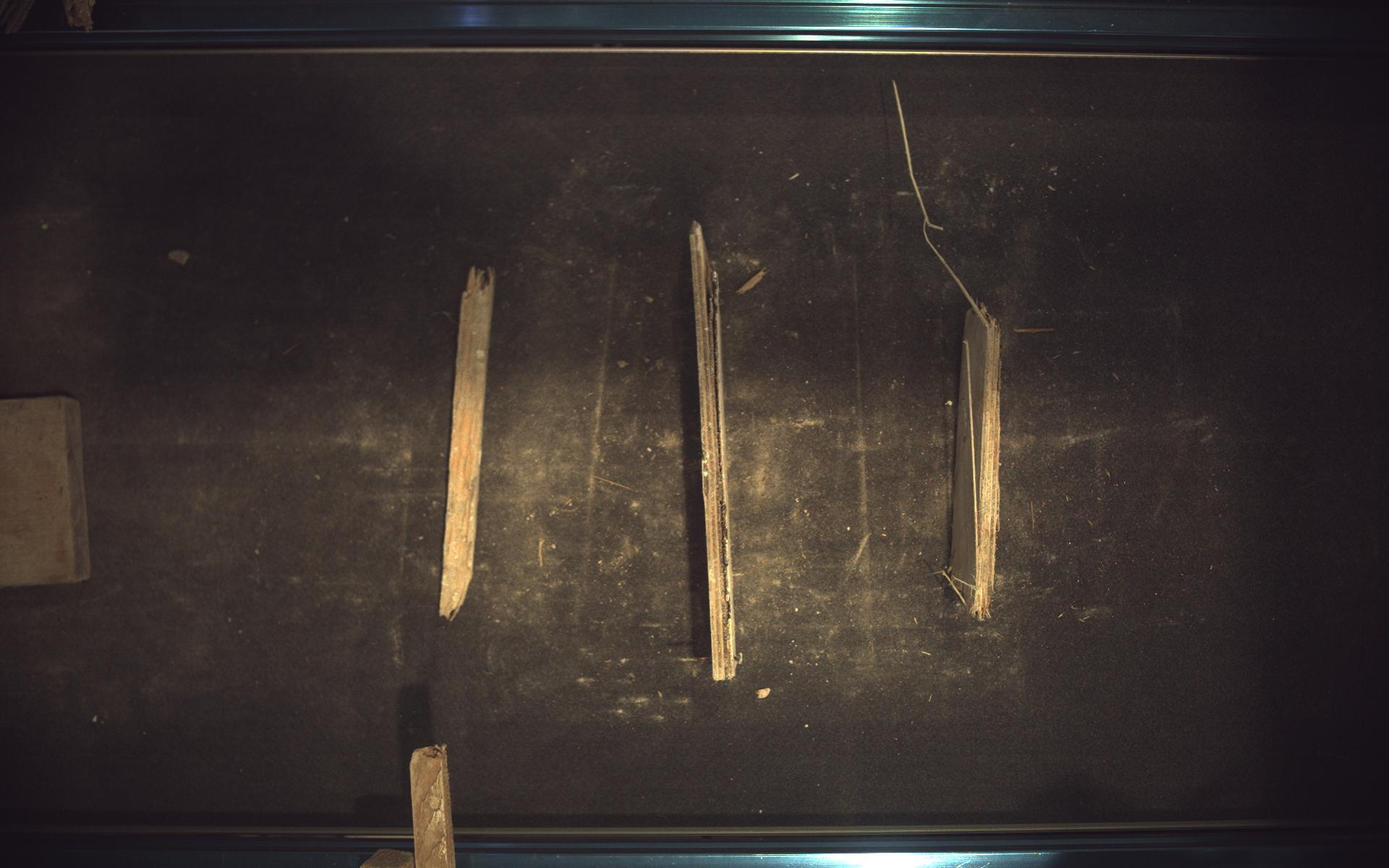wood: (690, 221, 739, 682), (439, 266, 495, 621), (949, 307, 1003, 620), (1, 396, 88, 587), (409, 746, 456, 868), (360, 850, 415, 868)
